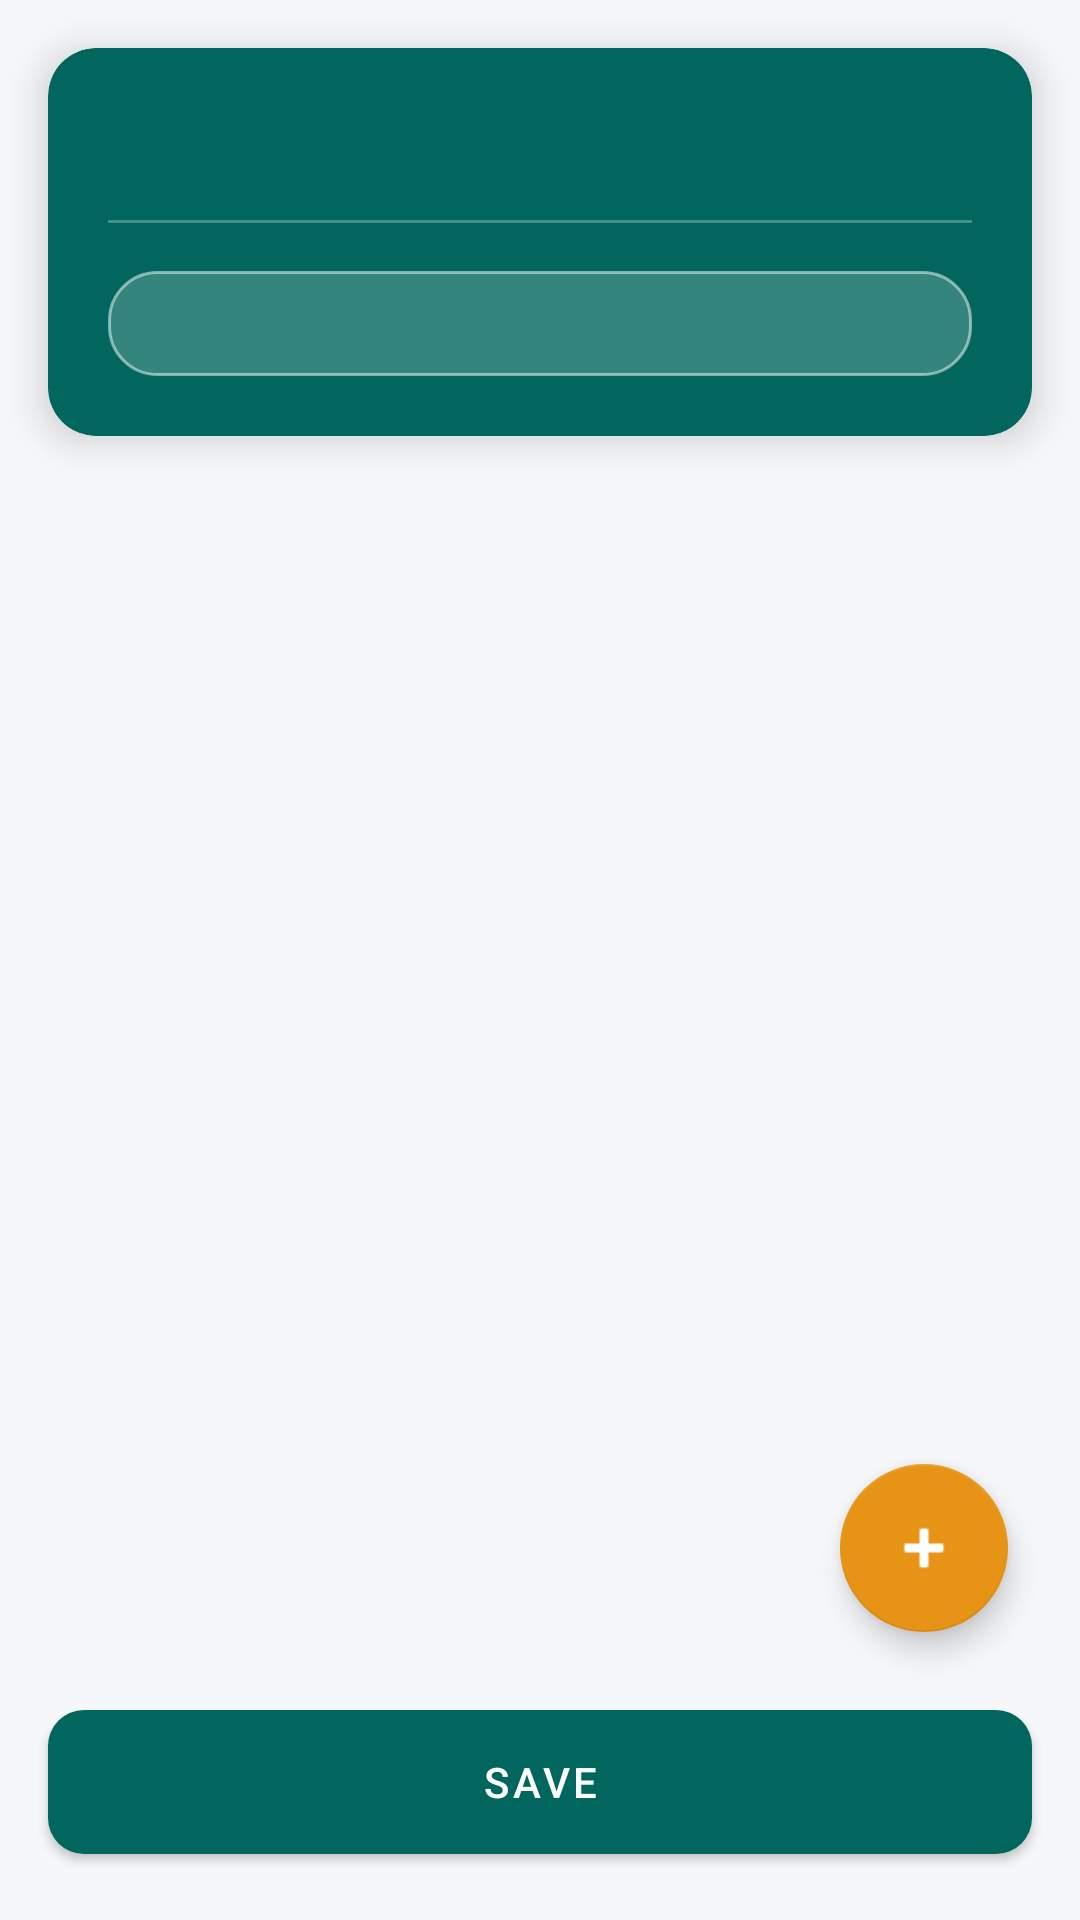

Icons on this 1080*1920 Android screen, each with the point to tap as point (x, y):
Add New Student: point (924, 1548)
